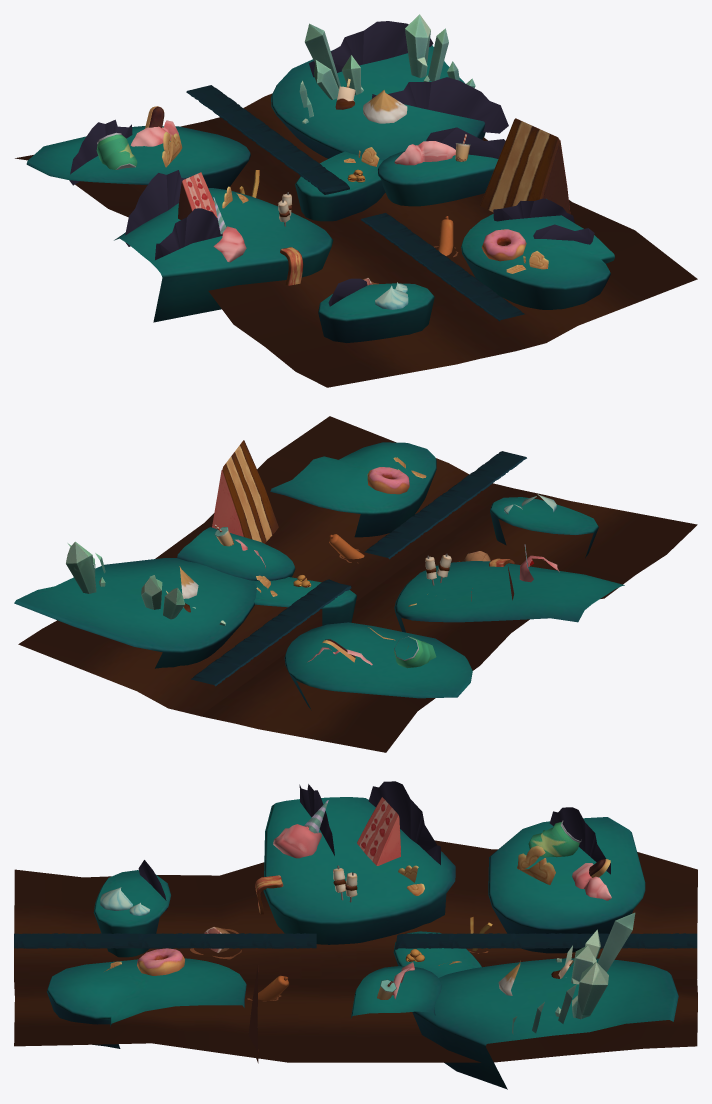
Rendered from stg3_C.gltf.
3 renders of one model, top to bottom at view 1: azimuth 30°, elevation 25°; view 2: azimuth 150°, elevation 25°; view 3: azimuth 270°, elevation 25°, orthographic. The views are drawn at different scales.
Visible parts, largest first — view 1: land_GEO:PIV, island_GEO6:PIV, island_GEO3:PIV, island_GEO14:PIV, pathbroke_GEO1:PIV, island_GEO12:PIV, cake_GEO1:PIV, island_GEO1:PIV, island_GEO4:PIV, crystal_gate_GEO1:PIV, island_GEO19:PIV, bush_GEO8:PIV (+15 smaller); view 2: land_GEO:PIV, island_GEO3:PIV, island_GEO12:PIV, island_GEO6:PIV, island_GEO14:PIV, pathbroke_GEO1:PIV, cake_GEO1:PIV, island_GEO4:PIV, island_GEO1:PIV, crystal_gate_GEO1:PIV, island_GEO19:PIV, doughnut_GEO2:PIV (+1 smaller); view 3: land_GEO:PIV, island_GEO6:PIV, island_GEO3:PIV, island_GEO12:PIV, island_GEO14:PIV, pathbroke_GEO1:PIV, crystal_gate_GEO1:PIV, island_GEO1:PIV, island_GEO4:PIV, bush_GEO9:PIV, cake_GEO2:PIV, island_GEO19:PIV (+10 smaller).
Boxes of the visible parts, left/top/right/bottom form: land_GEO:PIV: left=15, top=93, right=697, bottom=387; island_GEO6:PIV: left=114, top=188, right=333, bottom=322; island_GEO3:PIV: left=271, top=45, right=485, bottom=160; island_GEO14:PIV: left=461, top=198, right=614, bottom=309; pathbroke_GEO1:PIV: left=186, top=85, right=524, bottom=321; island_GEO12:PIV: left=26, top=126, right=250, bottom=189; cake_GEO1:PIV: left=480, top=118, right=570, bottom=213; island_GEO1:PIV: left=318, top=283, right=434, bottom=342; island_GEO4:PIV: left=378, top=151, right=498, bottom=206; crystal_gate_GEO1:PIV: left=299, top=14, right=475, bottom=123; island_GEO19:PIV: left=295, top=151, right=385, bottom=221; bush_GEO8:PIV: left=372, top=77, right=508, bottom=133; land_GEO:PIV: left=18, top=416, right=697, bottom=752; island_GEO3:PIV: left=14, top=558, right=256, bottom=668; island_GEO12:PIV: left=284, top=622, right=472, bottom=710; island_GEO6:PIV: left=394, top=561, right=624, bottom=632; island_GEO14:PIV: left=270, top=442, right=436, bottom=537; pathbroke_GEO1:PIV: left=191, top=451, right=526, bottom=686; cake_GEO1:PIV: left=212, top=440, right=278, bottom=543; island_GEO4:PIV: left=177, top=527, right=295, bottom=581; island_GEO1:PIV: left=490, top=497, right=598, bottom=558; crystal_gate_GEO1:PIV: left=66, top=541, right=225, bottom=625; island_GEO19:PIV: left=253, top=577, right=356, bottom=625; doughnut_GEO2:PIV: left=367, top=467, right=409, bottom=494; land_GEO:PIV: left=14, top=840, right=697, bottom=1062; island_GEO6:PIV: left=263, top=797, right=455, bottom=944; island_GEO3:PIV: left=412, top=958, right=678, bottom=1089; island_GEO12:PIV: left=488, top=817, right=645, bottom=953; island_GEO14:PIV: left=47, top=958, right=246, bottom=1048; pathbroke_GEO1:PIV: left=14, top=933, right=697, bottom=949; crystal_gate_GEO1:PIV: left=512, top=912, right=635, bottom=1034; island_GEO1:PIV: left=93, top=870, right=170, bottom=957; island_GEO4:PIV: left=351, top=966, right=441, bottom=1018; bush_GEO9:PIV: left=368, top=781, right=440, bottom=864; cake_GEO2:PIV: left=357, top=797, right=400, bottom=865; island_GEO19:PIV: left=393, top=931, right=481, bottom=977.
Size of the model in its own units: 16582 by 4162 by 20852.
9 materials, 8 textured.
